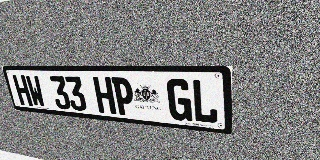3: (64, 76, 87, 111), (49, 76, 71, 110)
G: (166, 78, 192, 122)
H: (92, 77, 116, 114), (12, 75, 33, 106)
L: (191, 79, 218, 124)
P: (111, 77, 136, 116)
W: (25, 75, 46, 108)
